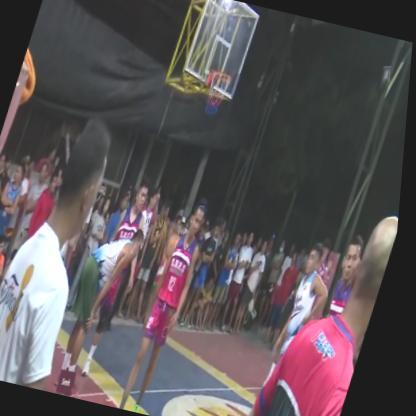rim: (196, 61, 237, 123)
